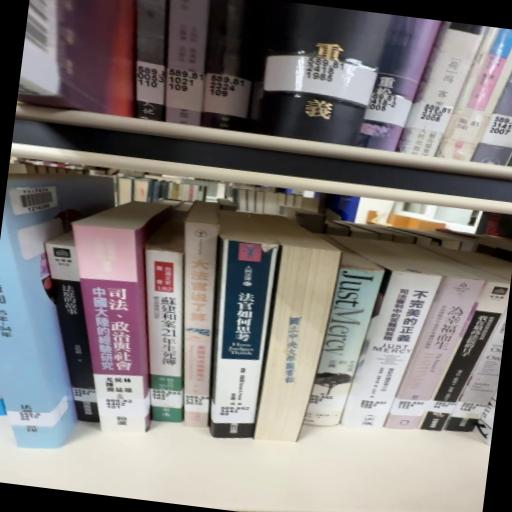backward: (257, 244, 347, 452)
book: (49, 190, 177, 440), (123, 220, 205, 433), (34, 230, 120, 427), (197, 240, 278, 446)
